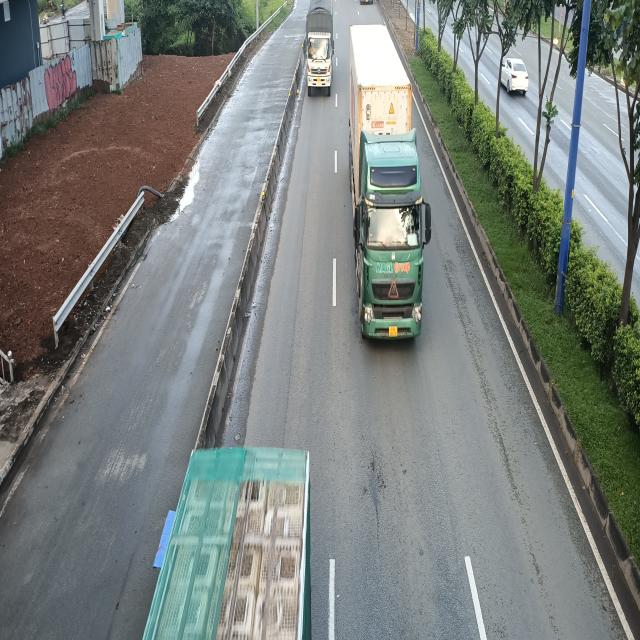container: (348, 23, 436, 343)
truck: (304, 0, 335, 94)
